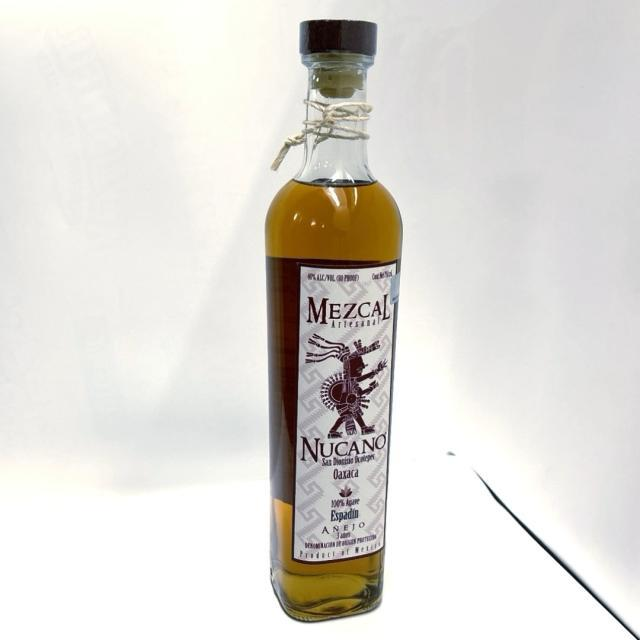MEZCAL-NUCANO-ANEJO-750ml-80proof: (260, 19, 407, 624)
